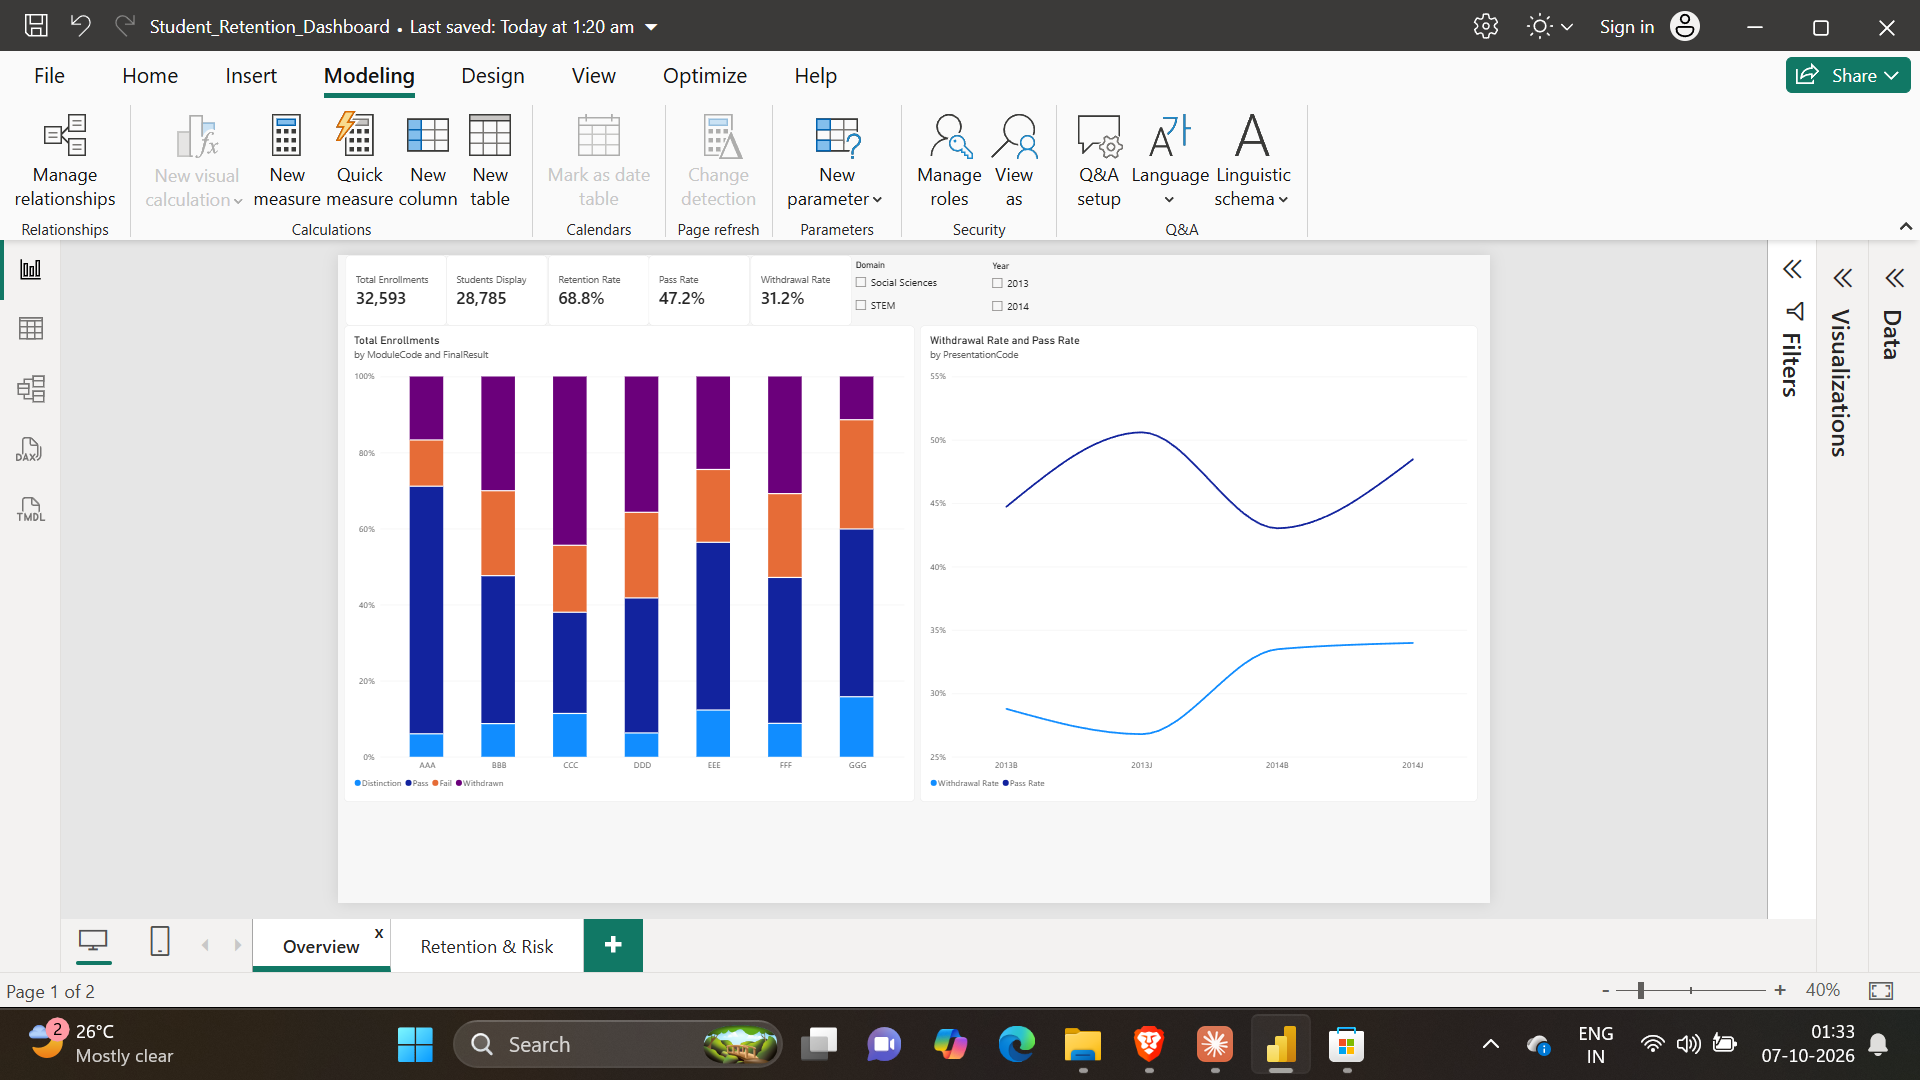

The dashboard page shown, as its layout file describes it:
{"tool":"powerbi","page":{"name":"Overview","canvas":[1920,1080],"ordinal":0},"visuals":[{"type":"cardVisual","fields":{"Data":["_Measures.Enrollments Display"]},"box":[11.3,0,169.1,118.4],"z":0},{"type":"cardVisual","fields":{"Data":["_Measures.Students Display"]},"box":[180.4,0,169.1,118.4],"z":1000},{"type":"cardVisual","fields":{"Data":["_Measures.Retention Rate"]},"box":[349.4,0,169.1,118.4],"z":2000},{"type":"cardVisual","fields":{"Data":["_Measures.Pass Rate"]},"box":[518.5,0,169.1,118.4],"z":3000},{"type":"cardVisual","fields":{"Data":["_Measures.Withdrawal Rate"]},"box":[687.6,0,169.1,118.4],"z":4000},{"type":"hundredPercentStackedColumnChart","fields":{"Category":["dim_course.ModuleCode"],"Series":["dim_result.FinalResult"],"Y":["_Measures.Total Enrollments"]},"box":[11,118.6,951.3,794.1],"z":5000},{"type":"lineChart","fields":{"Category":["dim_course.PresentationCode"],"Y":["_Measures.Withdrawal Rate","_Measures.Pass Rate"]},"box":[970.6,118.6,929.2,794.1],"z":6000},{"type":"slicer","fields":{"Values":["dim_course.Domain"]},"box":[854.8,8.3,228.9,99.3],"z":7000},{"type":"slicer","fields":{"Values":["dim_course.Year"]},"box":[1083.6,11,195.8,107.5],"z":8000}]}

Visuals, with their boxes on the page's 1920x1080 design canvas (x1, y1, x2, y2). These are canvas units, not pixel positions in the 1920x1080 screenshot, which may show the page scaled, cropped or inside an application window:
cardVisual - _Measures.Enrollments Display: locate(11, 0, 180, 118)
cardVisual - _Measures.Students Display: locate(180, 0, 350, 118)
cardVisual - _Measures.Retention Rate: locate(349, 0, 518, 118)
cardVisual - _Measures.Pass Rate: locate(518, 0, 688, 118)
cardVisual - _Measures.Withdrawal Rate: locate(688, 0, 857, 118)
hundredPercentStackedColumnChart - dim_course.ModuleCode x dim_result.FinalResult: locate(11, 119, 962, 913)
lineChart - dim_course.PresentationCode x _Measures.Withdrawal Rate: locate(971, 119, 1900, 913)
slicer - dim_course.Domain: locate(855, 8, 1084, 108)
slicer - dim_course.Year: locate(1084, 11, 1279, 118)
